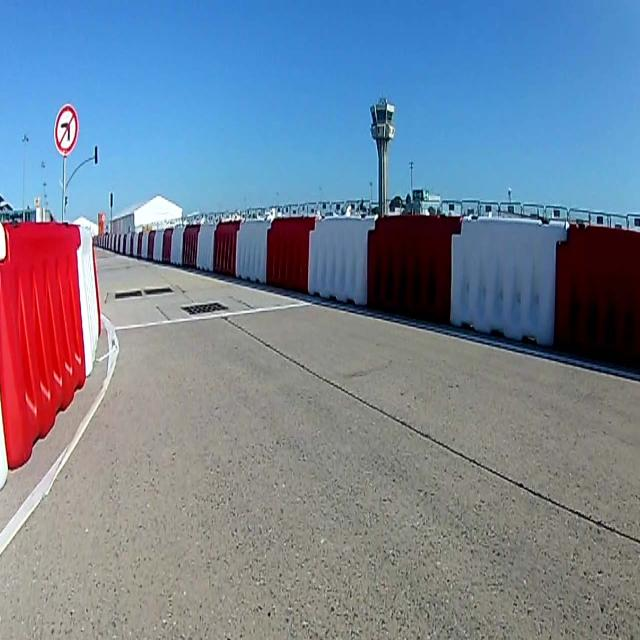soladonulmez: (54, 104, 79, 155)
